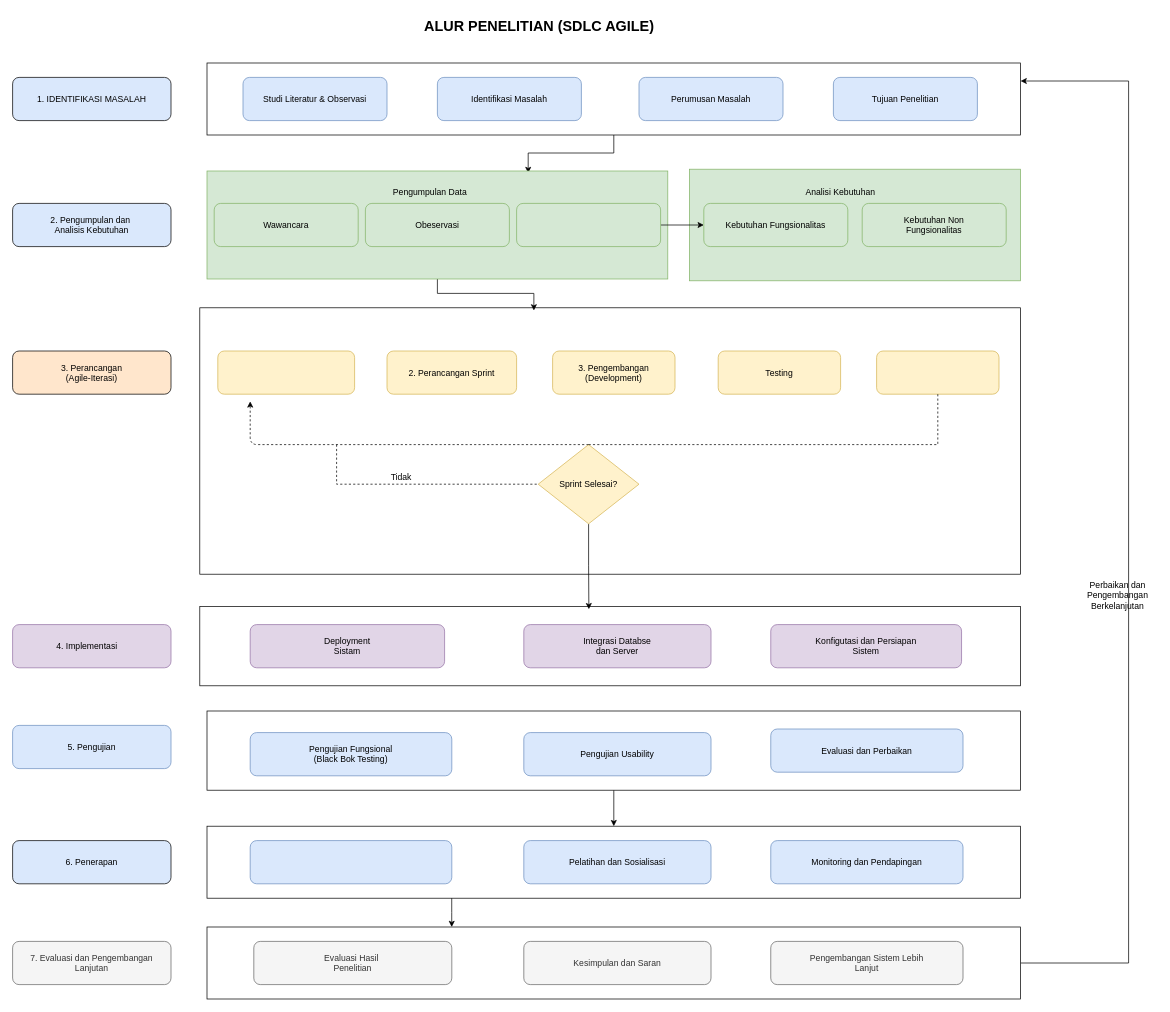
The diagram is 1170 pixels wide and 1012 high, and some of its shapes have lost their labels. Here are the shapes that lost their labels. From the top down, the centre of each, then its label:
point (588, 225): Studi Dokumentasi
point (286, 372): 1. Perancangan Sprint
point (937, 372): Review
point (350, 862): Penerapan Sistem pada Pengguna
